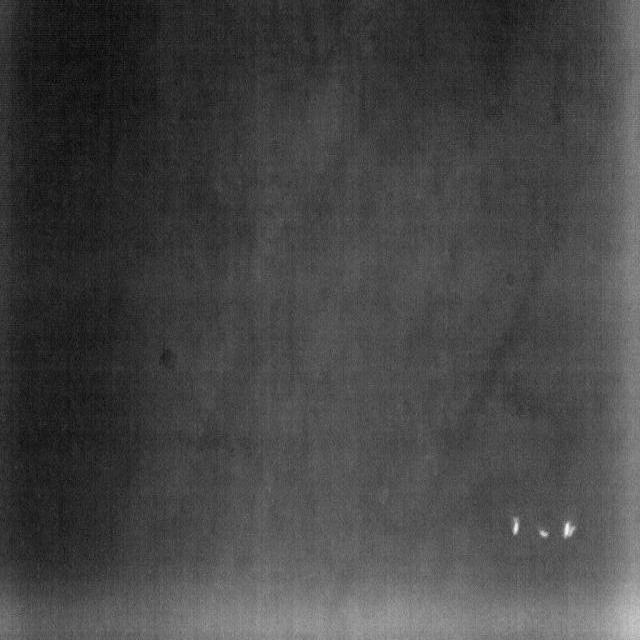deer: (561, 521, 576, 539), (512, 518, 520, 535), (539, 530, 551, 538)
